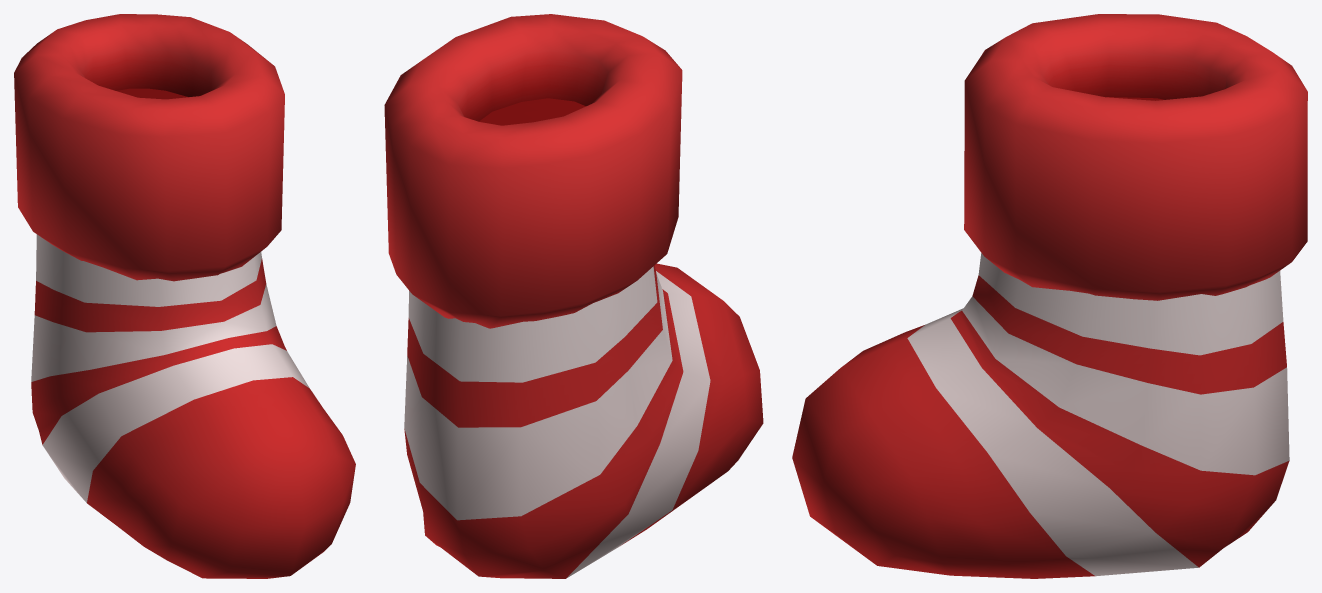
Rendered from ChristmasBoot.fbx.
3 views of the same model, side by side, from view 1: azimuth 30°, elevation 25°; view 2: azimuth 150°, elevation 25°; view 3: azimuth 270°, elevation 25° (orthographic). The views are drawn at different scales.
Parts seen in each view (by area): view 1: ChristmasBoot; view 2: ChristmasBoot; view 3: ChristmasBoot.
Part boxes in pixels (x1,y1,x2,y2): ChristmasBoot: (14, 14, 355, 578); ChristmasBoot: (384, 14, 763, 578); ChristmasBoot: (792, 14, 1307, 578).
Size of the model in its own units: 0.179 by 0.3481 by 0.3265.
